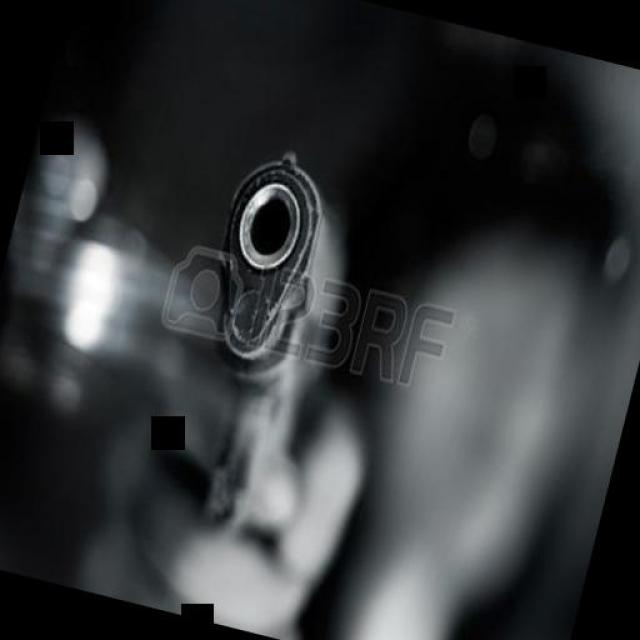gun: (145, 132, 360, 542)
